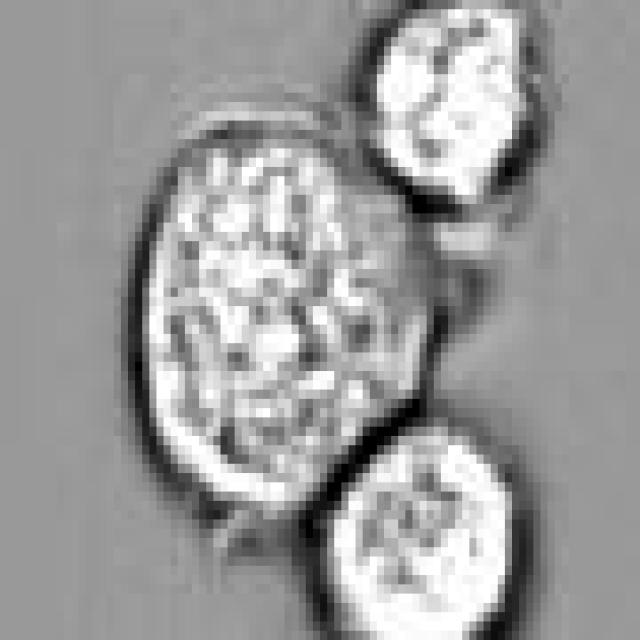Cancer Cell: (149, 111, 427, 510)
WBC: (320, 417, 526, 640), (370, 9, 540, 195)
